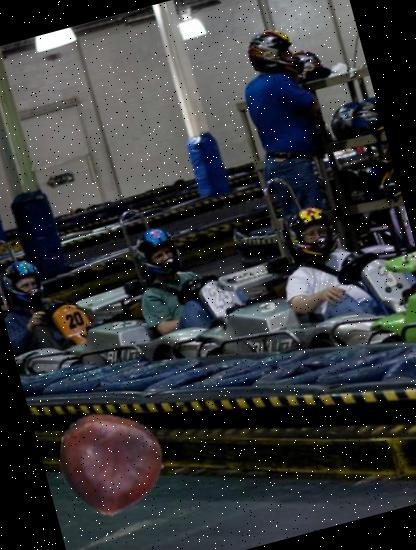Chestnut: (47, 402, 176, 530)
